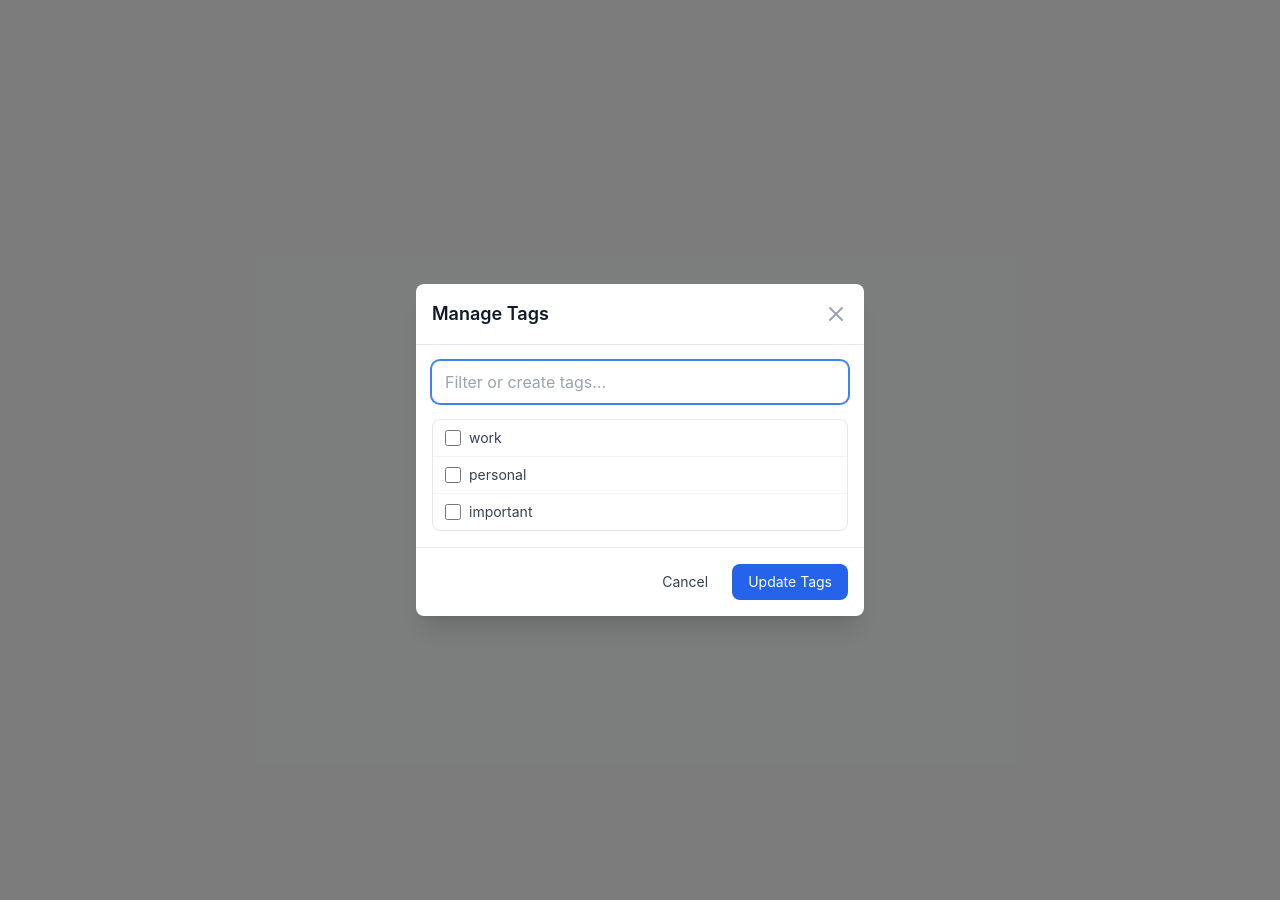
TagModal › allows selecting and deselecting tags
Click the checkbox labelled "work" at (453, 438), box [445, 430, 461, 446]
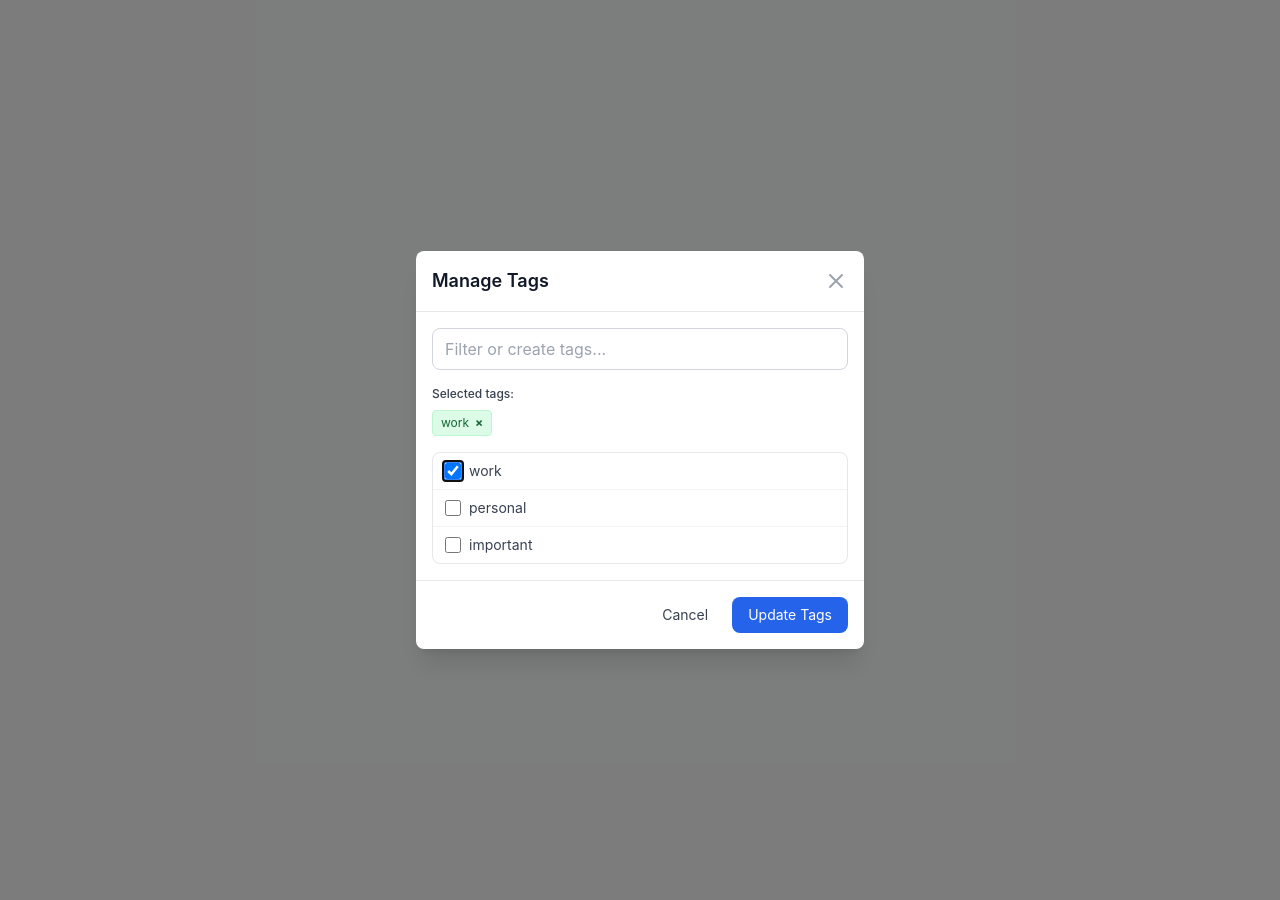
Check: the text "Selected tags:" is shown, box [432, 386, 514, 401]
